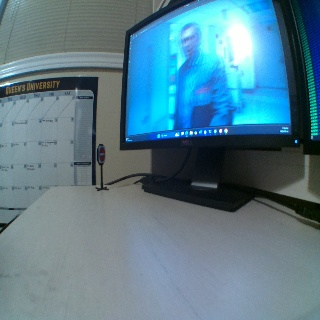sign_noentry: (98, 146, 105, 162)
